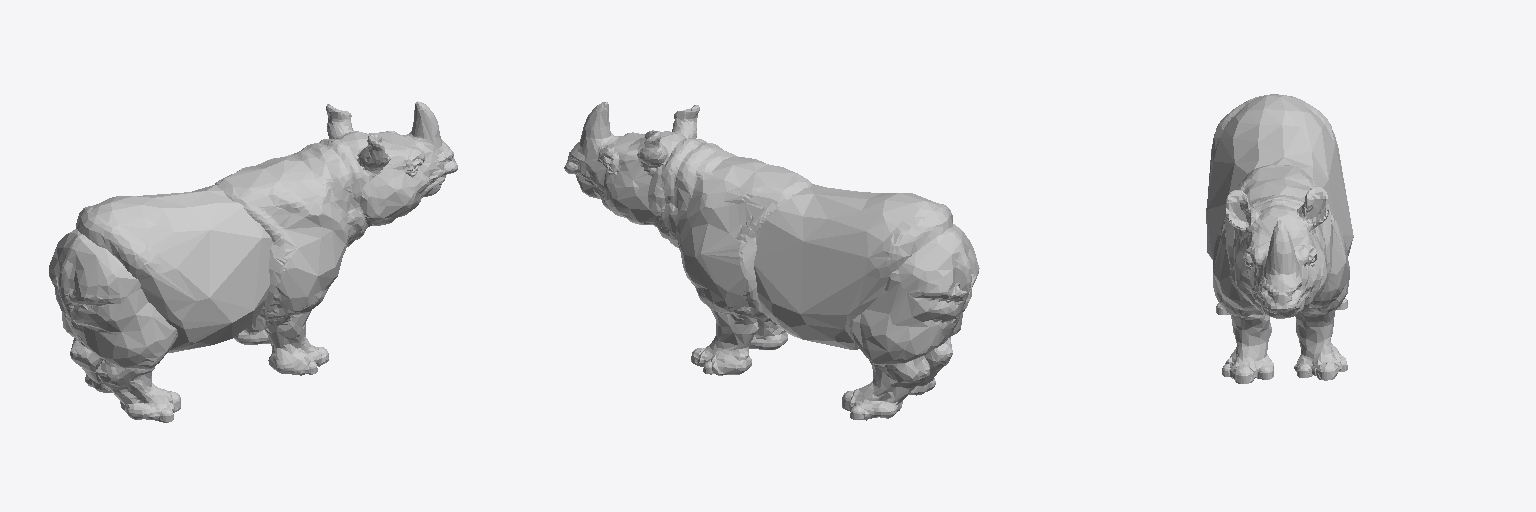
File: rhino.obj
3 views of the same model, side by side, from view 1: azimuth 30°, elevation 25°; view 2: azimuth 150°, elevation 25°; view 3: azimuth 270°, elevation 25° (orthographic).
Visible parts, largest first — view 1: mesh02; view 2: mesh02; view 3: mesh02.
Part boxes in pixels (left/top/right/bottom): mesh02: left=49, top=101, right=457, bottom=422; mesh02: left=564, top=102, right=979, bottom=420; mesh02: left=1206, top=94, right=1353, bottom=383.
Bounding box in the file's own units: 3.29 × 1.81 × 1.05.